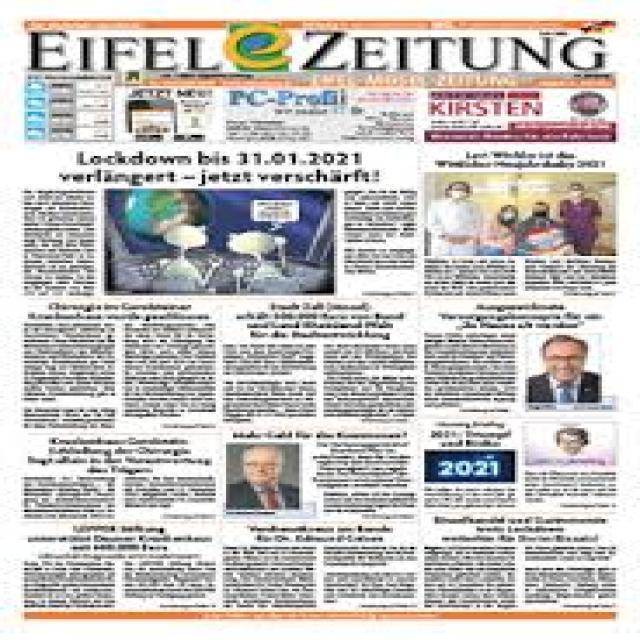Newspaper: (0, 0, 640, 635)
